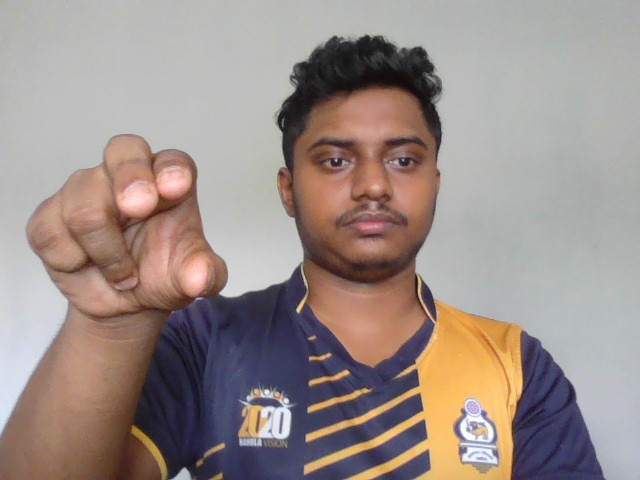No: (25, 132, 234, 311)
